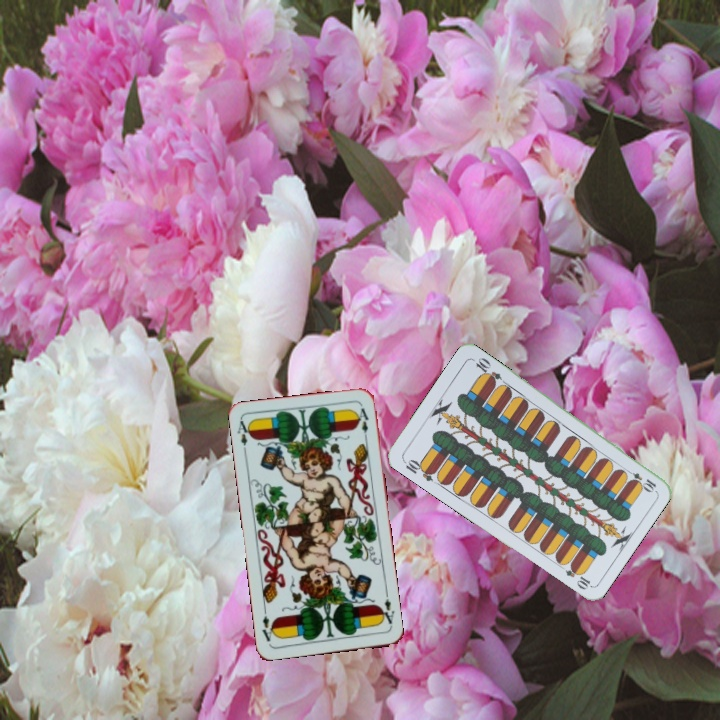E10: (399, 455, 438, 484), (621, 465, 659, 494)
EA: (376, 595, 397, 629), (233, 416, 254, 448)
